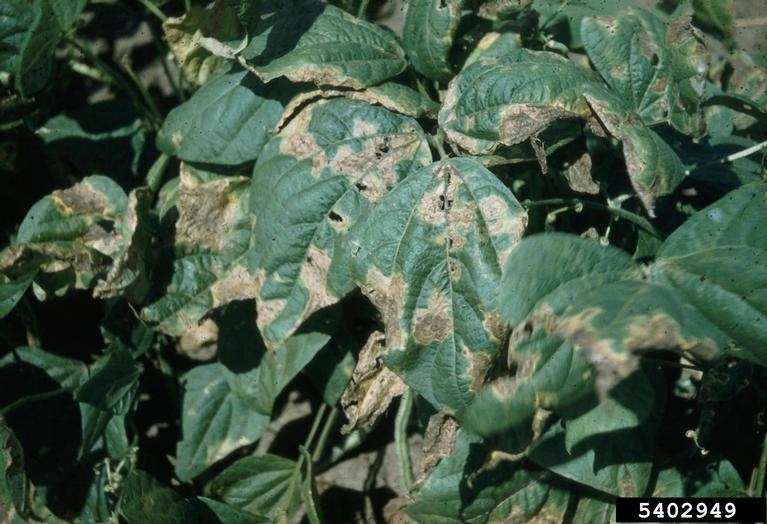StringBeans_BacterialBlight: (374, 168, 554, 412), (421, 42, 615, 147)
